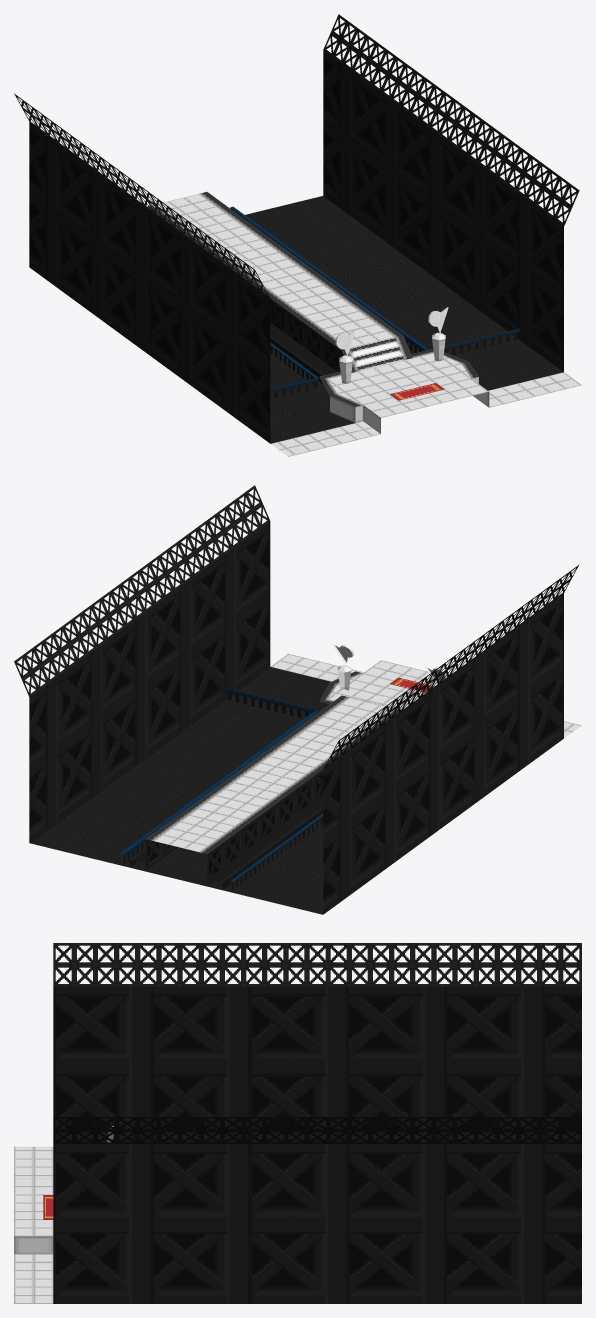
The model's file is WALKWAYGYM1.obj.
3 views of the same model, one above another, from view 1: azimuth 30°, elevation 25°; view 2: azimuth 150°, elevation 25°; view 3: azimuth 270°, elevation 25° (orthographic). The views are drawn at different scales.
Visible parts, largest first — view 1: polygon4, polygon1, polygon0, polygon8, polygon2, polygon7, polygon6, polygon5; view 2: polygon4, polygon1, polygon0, polygon8, polygon2, polygon7, polygon6; view 3: polygon4, polygon8, polygon0.
Boxes of the visible parts, x1,y1,x2,y2 form: polygon4: (29,50,563,443); polygon1: (245,196,563,443); polygon0: (158,193,581,456); polygon8: (14,14,579,297); polygon2: (147,192,478,406); polygon7: (230,206,519,399); polygon6: (270,323,414,384); polygon5: (349,337,404,371); polygon4: (29,521,563,914); polygon1: (30,667,331,914); polygon0: (153,641,581,852); polygon8: (14,485,579,768); polygon2: (145,671,400,853); polygon7: (120,688,323,890); polygon6: (130,794,323,889); polygon4: (53,987,581,1303); polygon8: (53,943,581,1143); polygon0: (14,1126,113,1303).
Size of the model in its own units: 10.5 by 5.5 by 14.5.
Materials: 9 (9 with a texture image).
